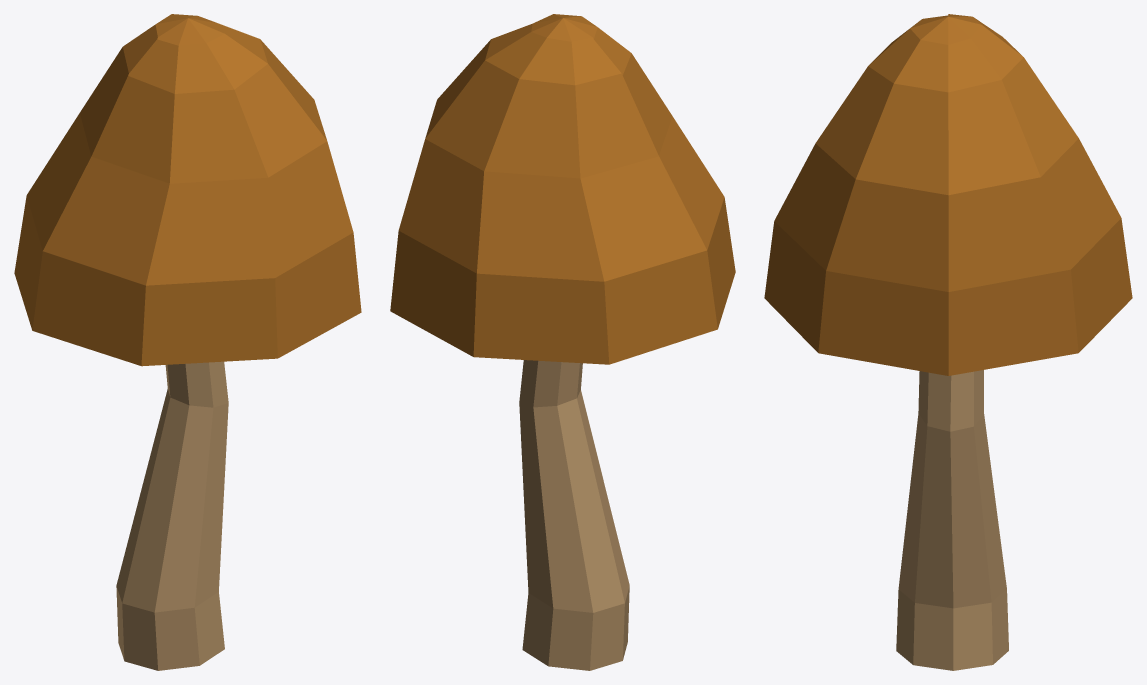
Rendered from mushrooms.fbx.
The picture shows the model from 3 angles, left to right: view 1: azimuth 30°, elevation 25°; view 2: azimuth 150°, elevation 25°; view 3: azimuth 270°, elevation 25°; orthographic projection. The views are drawn at different scales.
Parts seen in each view (by area): view 1: Mushroom_1; view 2: Mushroom_1; view 3: Mushroom_1.
Part boxes in pixels (x1,y1,x2,y2): Mushroom_1: (14, 14, 361, 670); Mushroom_1: (390, 14, 735, 670); Mushroom_1: (764, 14, 1132, 670).
Bounding box in the file's own units: 30.05 × 58.07 × 30.05.
